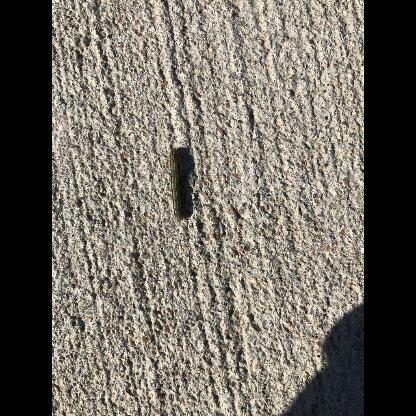Fall Armyworm Larvae: (166, 146, 186, 224)
